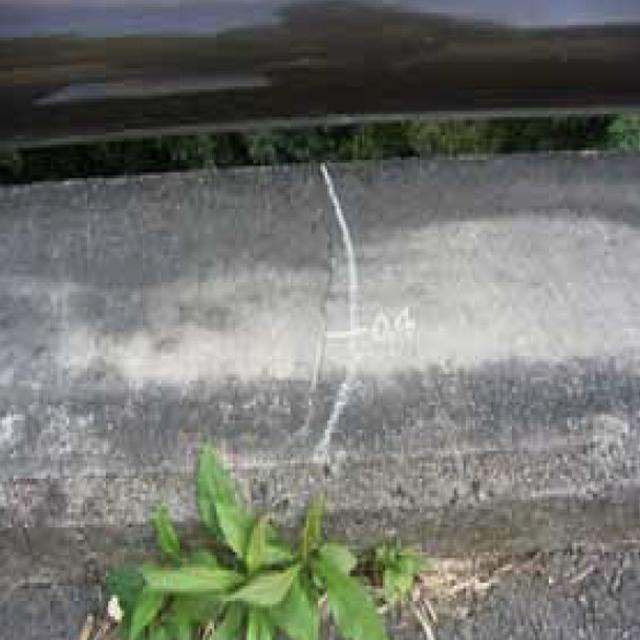crack: (294, 177, 362, 460)
